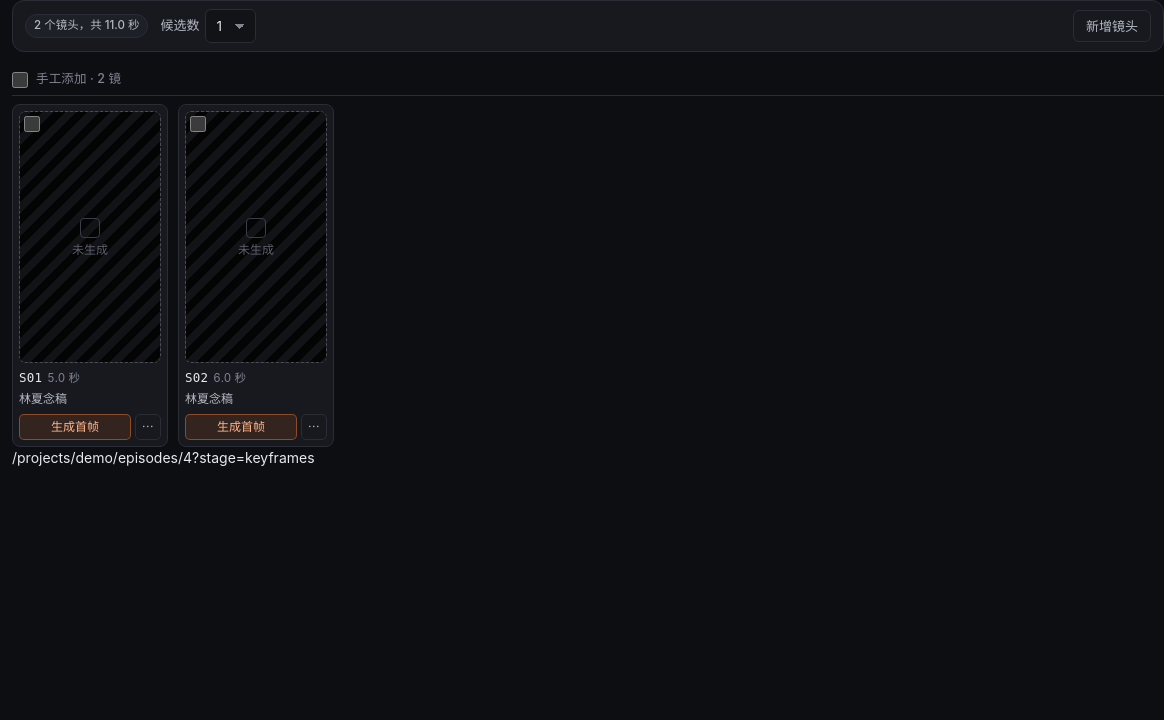
ShotStage › 提交后后端给了提醒（出场角色没有定妆照）：照常跟踪任务，并把提醒显示出来
Click the button with aria-label "生成首帧 S01" at (75, 427), box [19,414,131,440]
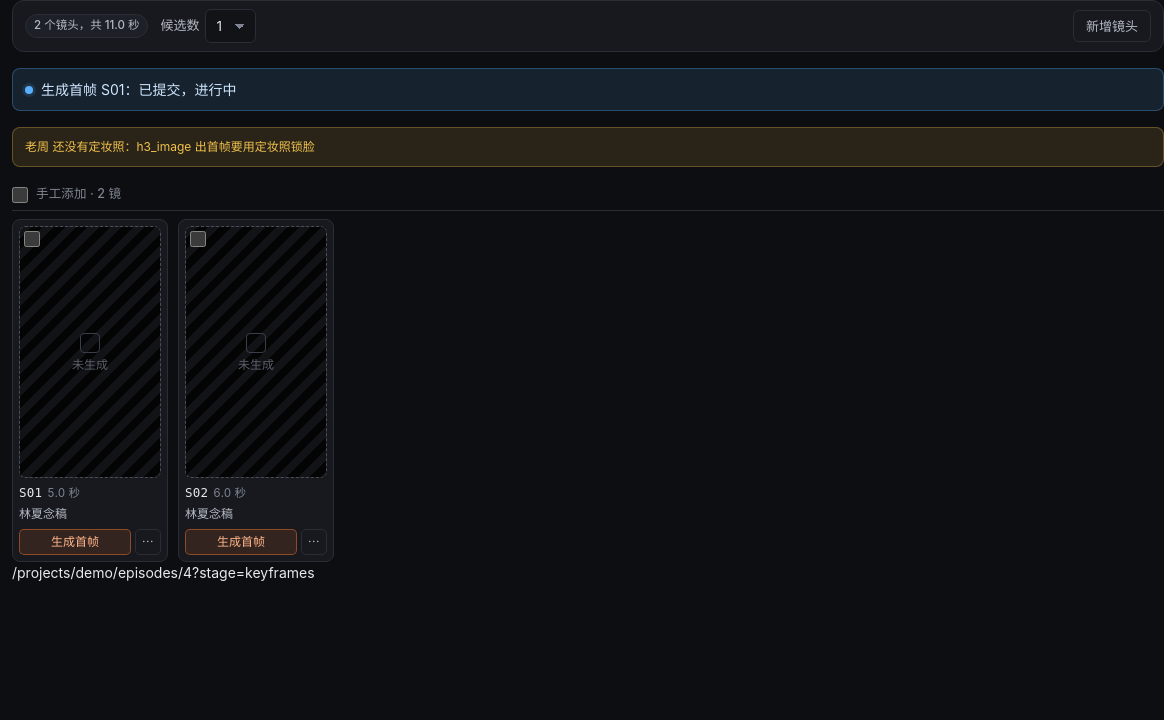
Expected: the text with test id "run-warning" reads "老周 还没有定妆照：h3_image 出首帧要用定妆照锁脸", [25,139,315,154]
